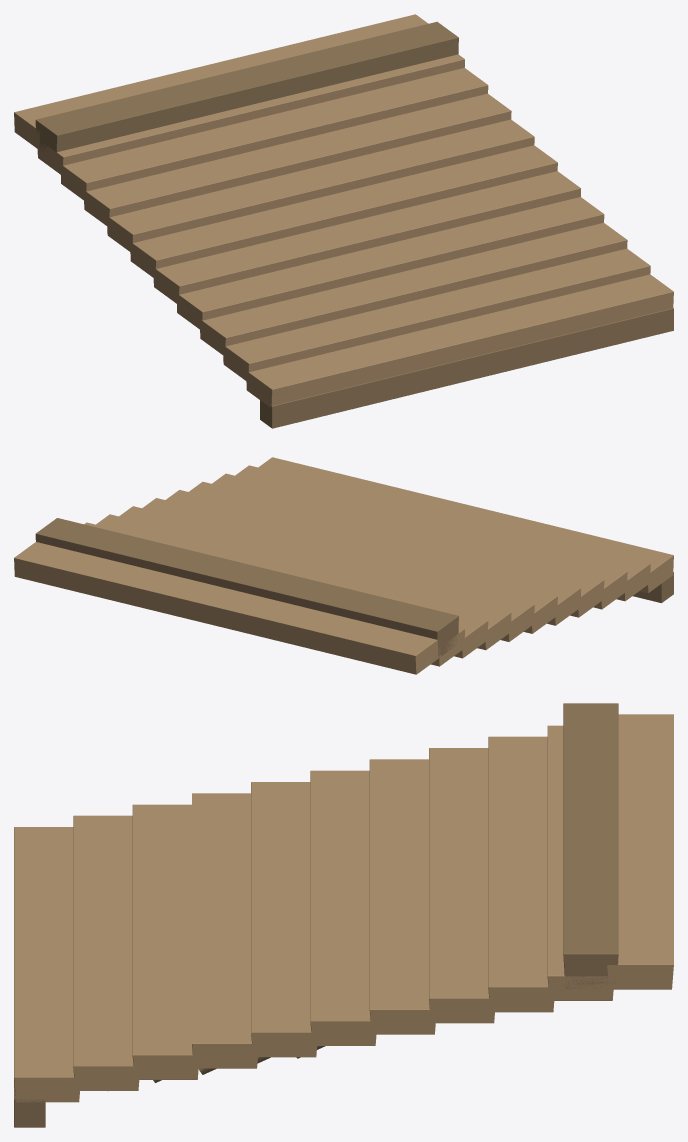
The model's file is BD_roof.fbx.
3 views of the same model, one above another, from view 1: azimuth 30°, elevation 25°; view 2: azimuth 150°, elevation 25°; view 3: azimuth 270°, elevation 25° (orthographic). The views are drawn at different scales.
Visible parts, largest first — view 1: BD_roof; view 2: BD_roof; view 3: BD_roof.
Part boxes in pixels (x1,y1,x2,y2): BD_roof: [14, 14, 673, 428]; BD_roof: [14, 457, 673, 674]; BD_roof: [14, 703, 673, 1127].
Size of the model in its own units: 3 by 0.97 by 3.34.
